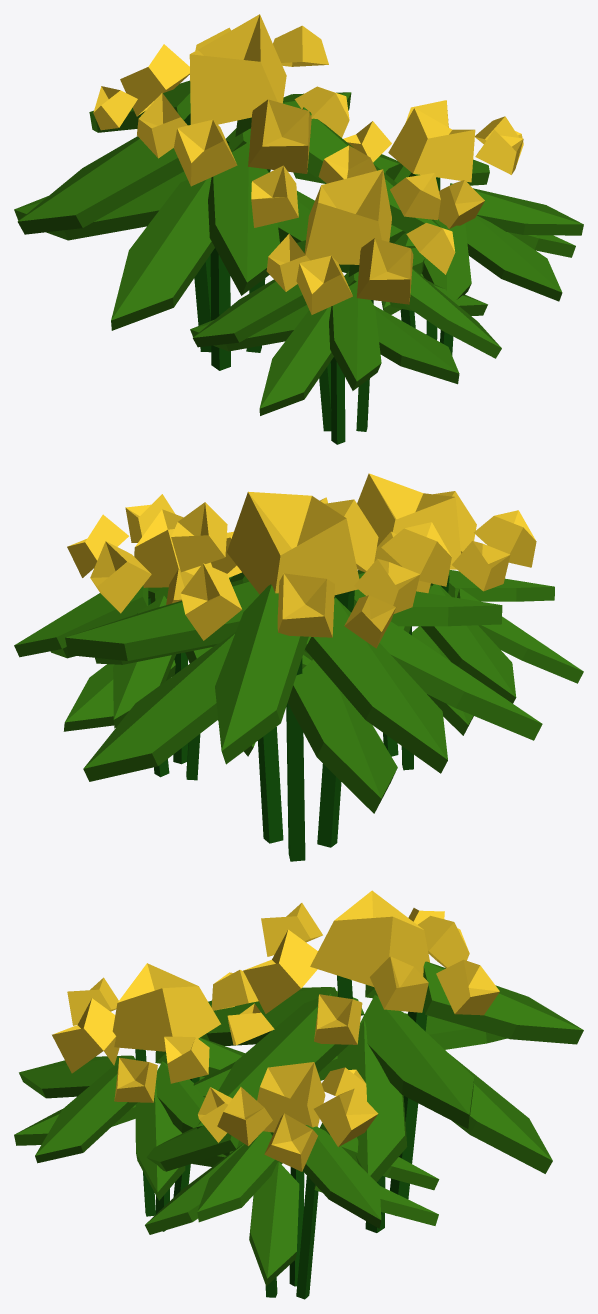
The model's file is Mes_merda_den_isidro.FBX.
3 views of the same model, one above another, from view 1: azimuth 30°, elevation 25°; view 2: azimuth 150°, elevation 25°; view 3: azimuth 270°, elevation 25° (orthographic). The views are drawn at different scales.
Visible parts, largest first — view 1: SM_Env_Flowers_02; view 2: SM_Env_Flowers_02; view 3: SM_Env_Flowers_02.
Part boxes in pixels (box(x1,y1,x2,y2)): SM_Env_Flowers_02: box(14, 14, 583, 444); SM_Env_Flowers_02: box(14, 473, 583, 861); SM_Env_Flowers_02: box(14, 890, 583, 1299).
Bounding box in the file's own units: 11.93 × 7.99 × 12.9.
